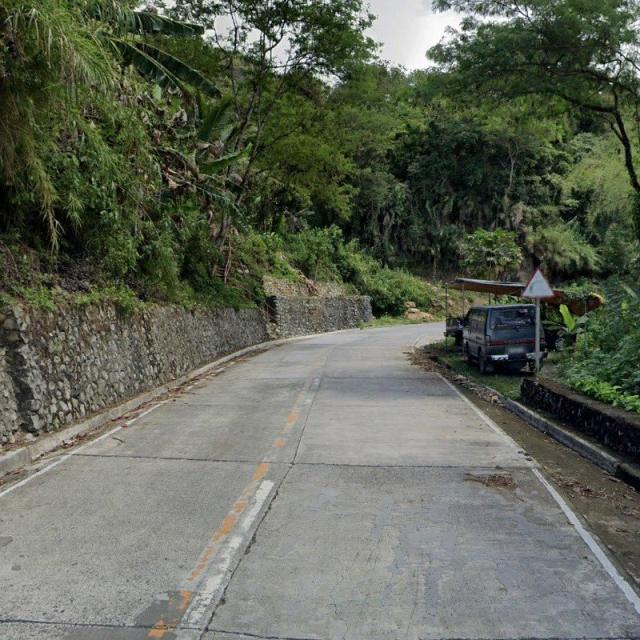warn_right_curve: (520, 268, 555, 298)
